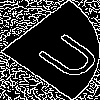U: (25, 24, 100, 83)
